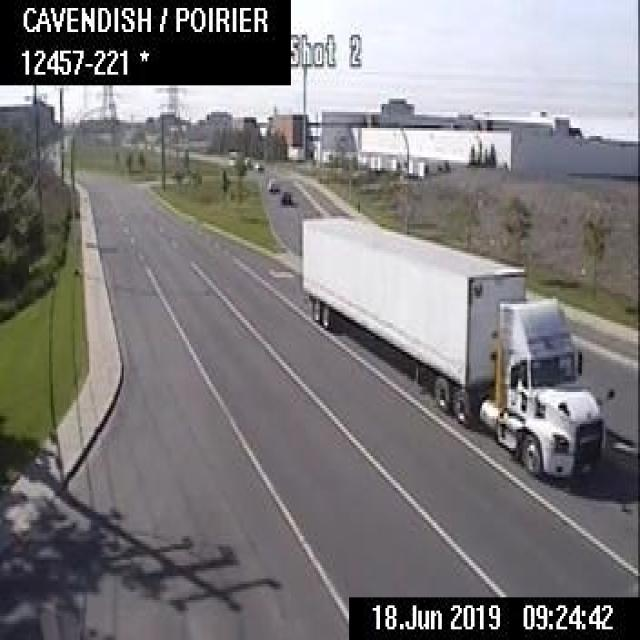vehicle: (299, 213, 601, 480), (266, 176, 277, 190), (280, 188, 289, 202)
